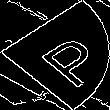P_NW: (12, 24, 98, 86)
